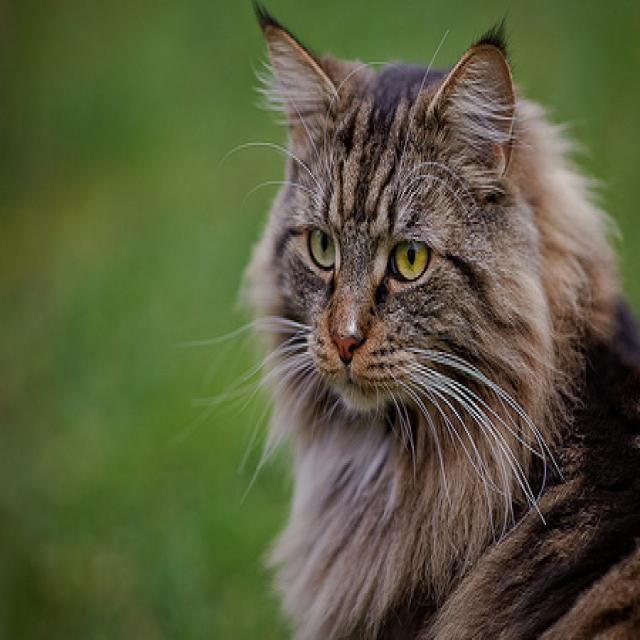Maine Coon: (239, 0, 640, 640)
